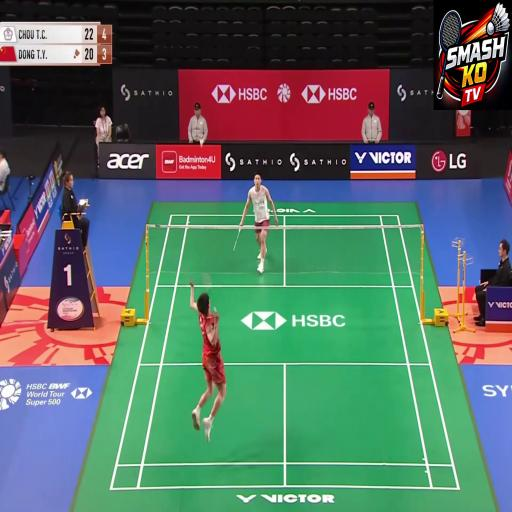player: (176, 271, 235, 447), (230, 148, 293, 281)
